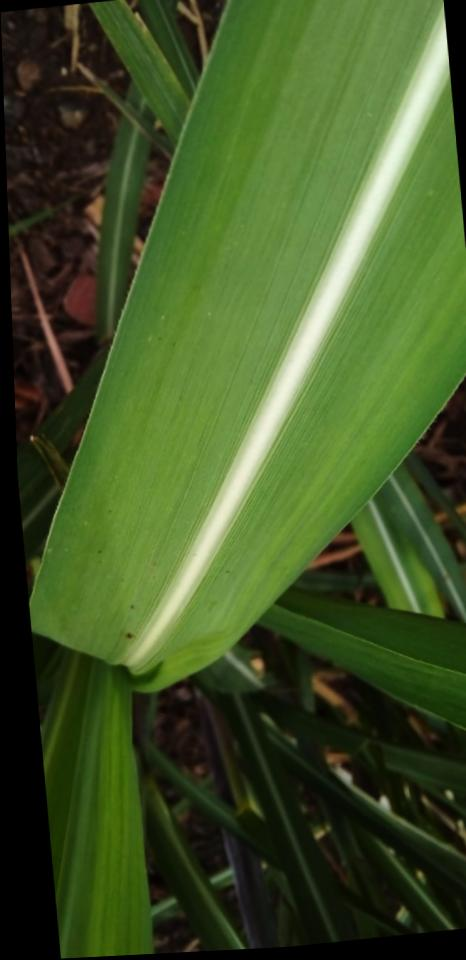Healthy: (29, 0, 466, 693), (41, 647, 152, 959), (258, 589, 466, 728)
